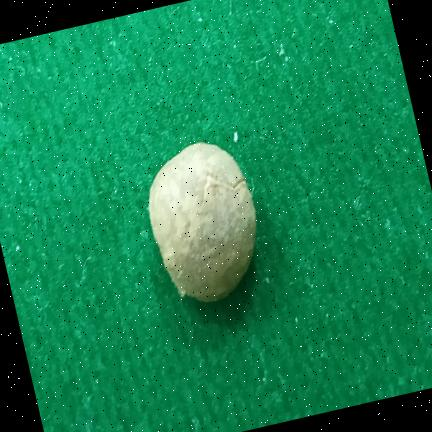good: (149, 143, 256, 302)
